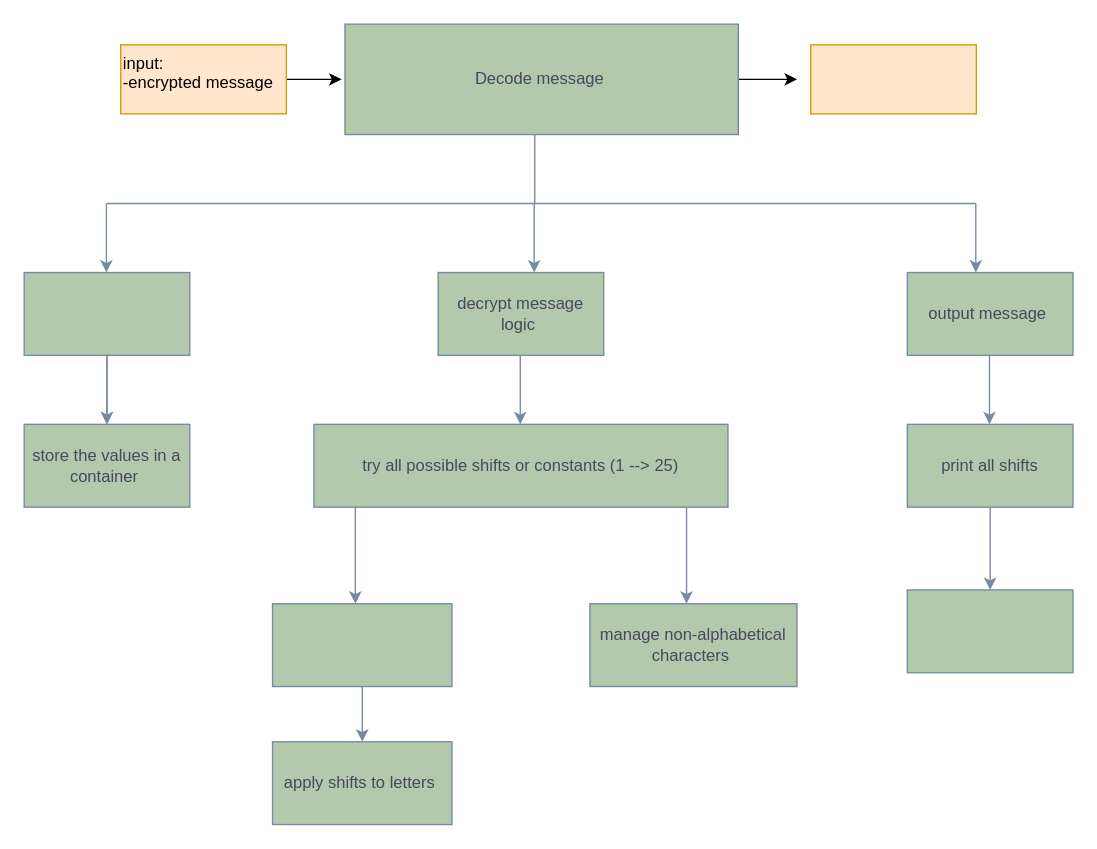
Some shapes in this 1097 by 849 pixel diagram are drawn without their labels. Here are the shapes that lost their labels. From the top down, the centre of each, then its label:
At (892,78): "output: -decrypted message".
At (106,313): "read input".
At (361,644): "manage alphabetical letters".
At (989,631): "user identifies and selects the correct text".
